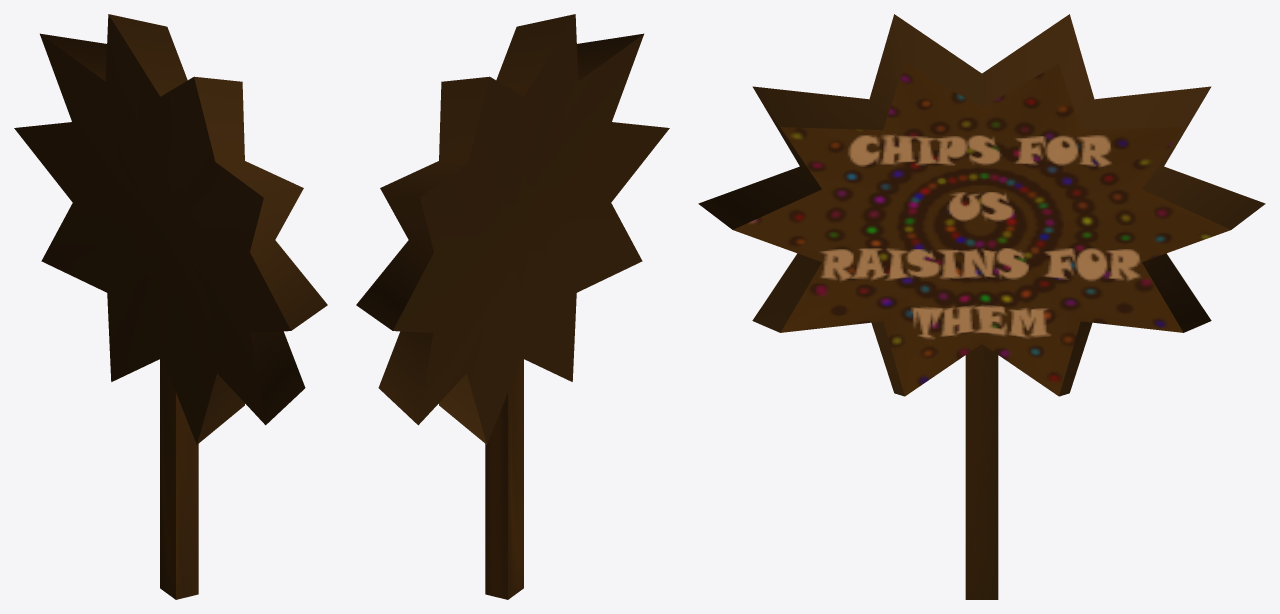
The model's file is starboard chocolate board 3.fbx.
The picture shows the model from 3 angles, left to right: view 1: azimuth 30°, elevation 25°; view 2: azimuth 150°, elevation 25°; view 3: azimuth 270°, elevation 25°; orthographic projection. The views are drawn at different scales.
Visible parts, largest first — view 1: pCylinder2; view 2: pCylinder2; view 3: pCylinder2.
Part boxes in pixels (x1,y1,x2,y2): pCylinder2: (14, 14, 327, 599); pCylinder2: (356, 14, 669, 599); pCylinder2: (698, 14, 1265, 599).
Bounding box in the file's own units: 1.51 × 14.13 × 12.84.
Materials: 1 (1 with a texture image).
